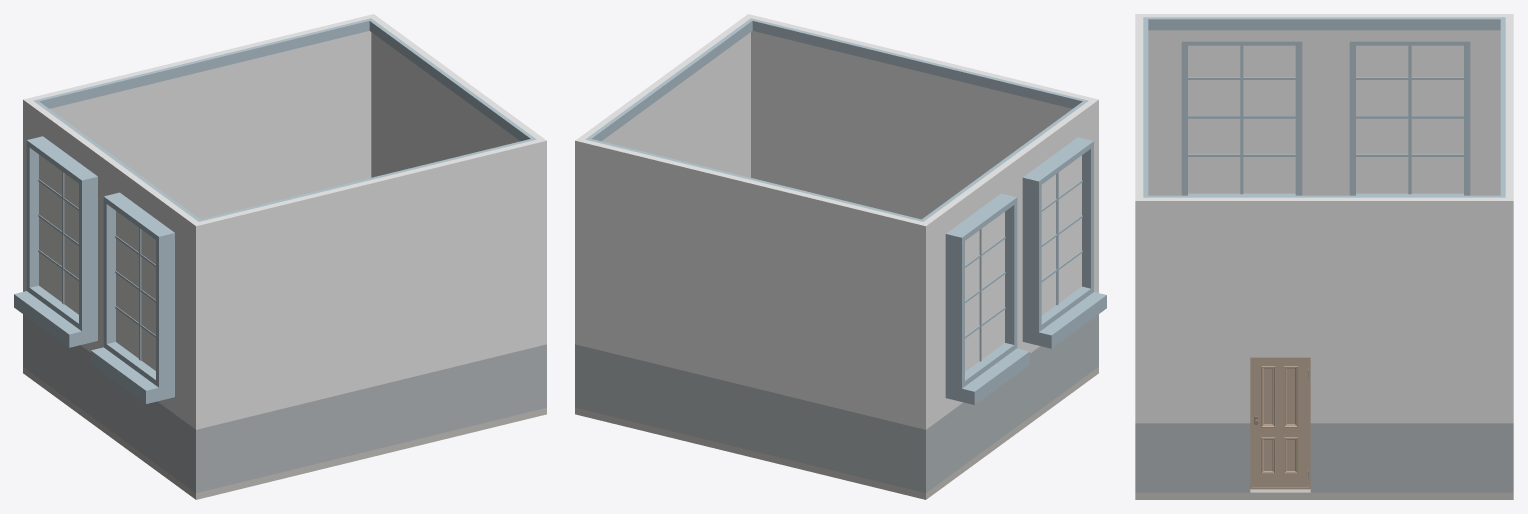
File: 878_room_view.glb
3 renders of one model, left to right at view 1: azimuth 30°, elevation 25°; view 2: azimuth 150°, elevation 25°; view 3: azimuth 270°, elevation 25°, orthographic. The views are drawn at different scales.
Visible parts, largest first — view 1: kabe3, kabe4, kabe1, kabe2, 床; view 2: kabe1, kabe4, kabe3, kabe2, 床; view 3: kabe2, kabe4, 戸, kabe1, kabe3, 床.
Part boxes in pixels (x1,y1,x2,y2): kabe3: (190, 138, 546, 492); kabe4: (14, 100, 205, 493); kabe1: (23, 14, 376, 370); kabe2: (369, 16, 546, 409); 床: (23, 367, 546, 499); kabe1: (575, 138, 931, 491); kabe4: (916, 98, 1106, 493); kabe3: (745, 14, 1098, 366); kabe2: (575, 16, 752, 362); 床: (575, 367, 1098, 499); kabe2: (1135, 195, 1513, 492); kabe4: (1136, 14, 1513, 195); 戸: (1252, 357, 1308, 487); kabe1: (1500, 14, 1513, 492); kabe3: (1135, 14, 1148, 491); 床: (1135, 489, 1513, 499).
Size of the model in its own units: 5.95 by 4.1 by 4.7.
